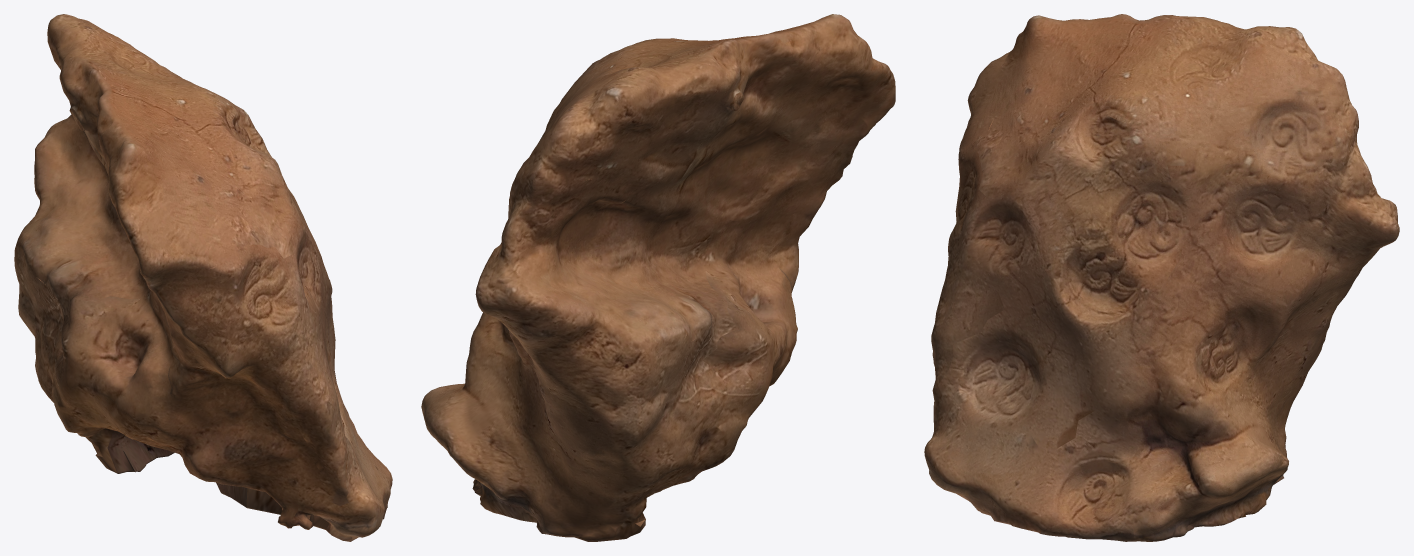
The model's file is Kapaki3.fbx.
3 views of the same model, side by side, from view 1: azimuth 30°, elevation 25°; view 2: azimuth 150°, elevation 25°; view 3: azimuth 270°, elevation 25° (orthographic). The views are drawn at different scales.
Visible parts, largest first — view 1: Kapaki3-Μ0183-video; view 2: Kapaki3-Μ0183-video; view 3: Kapaki3-Μ0183-video.
Part boxes in pixels (left/top/right/bottom): Kapaki3-Μ0183-video: left=14, top=14, right=392, bottom=541; Kapaki3-Μ0183-video: left=421, top=14, right=895, bottom=541; Kapaki3-Μ0183-video: left=924, top=14, right=1399, bottom=541.
Size of the model in its own units: 5.67 by 7.83 by 7.6.
1 material, 1 textured.
